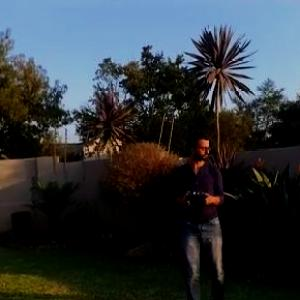follow: (172, 122, 232, 299)
